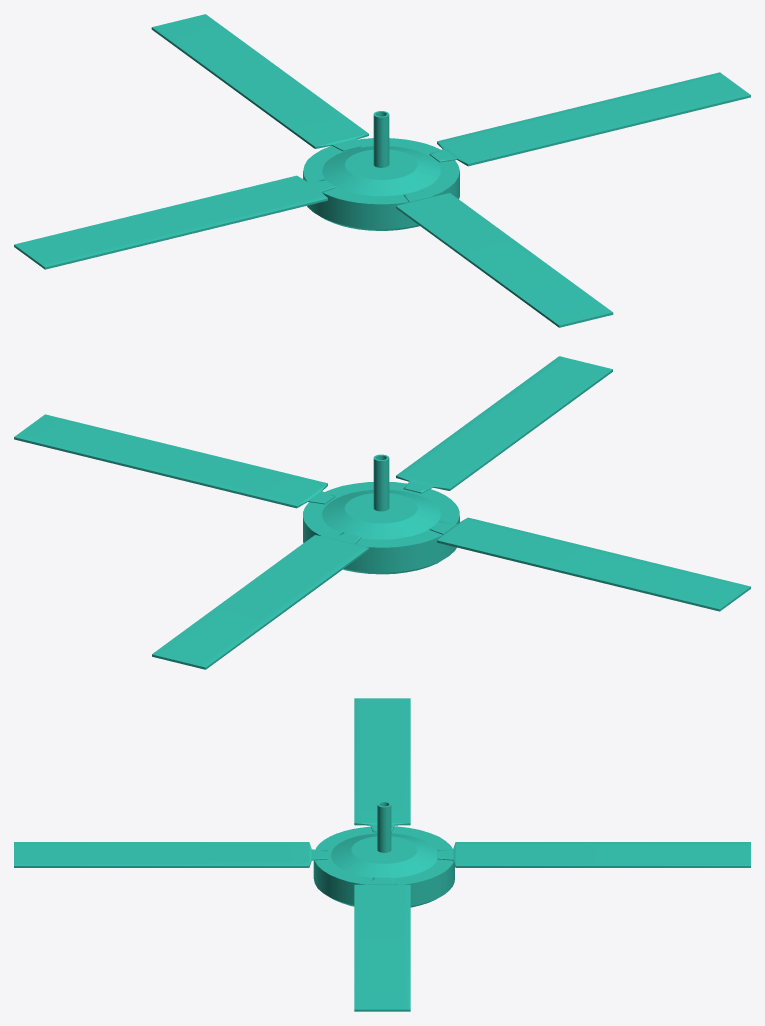
The model's file is fan_v1.FBX.
3 views of the same model, one above another, from view 1: azimuth 30°, elevation 25°; view 2: azimuth 150°, elevation 25°; view 3: azimuth 270°, elevation 25° (orthographic). The views are drawn at different scales.
Visible parts, largest first — view 1: Cylinder001; view 2: Cylinder001; view 3: Cylinder001.
Boxes of the visible parts, x1,y1,x2,y2 form: Cylinder001: (14,14,750,327); Cylinder001: (14,356,750,669); Cylinder001: (14,698,750,1011).
Size of the model in its own units: 158 by 21.28 by 158.
